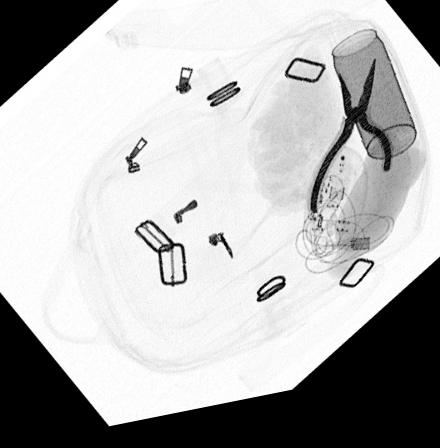Pliers: (305, 71, 392, 229)
